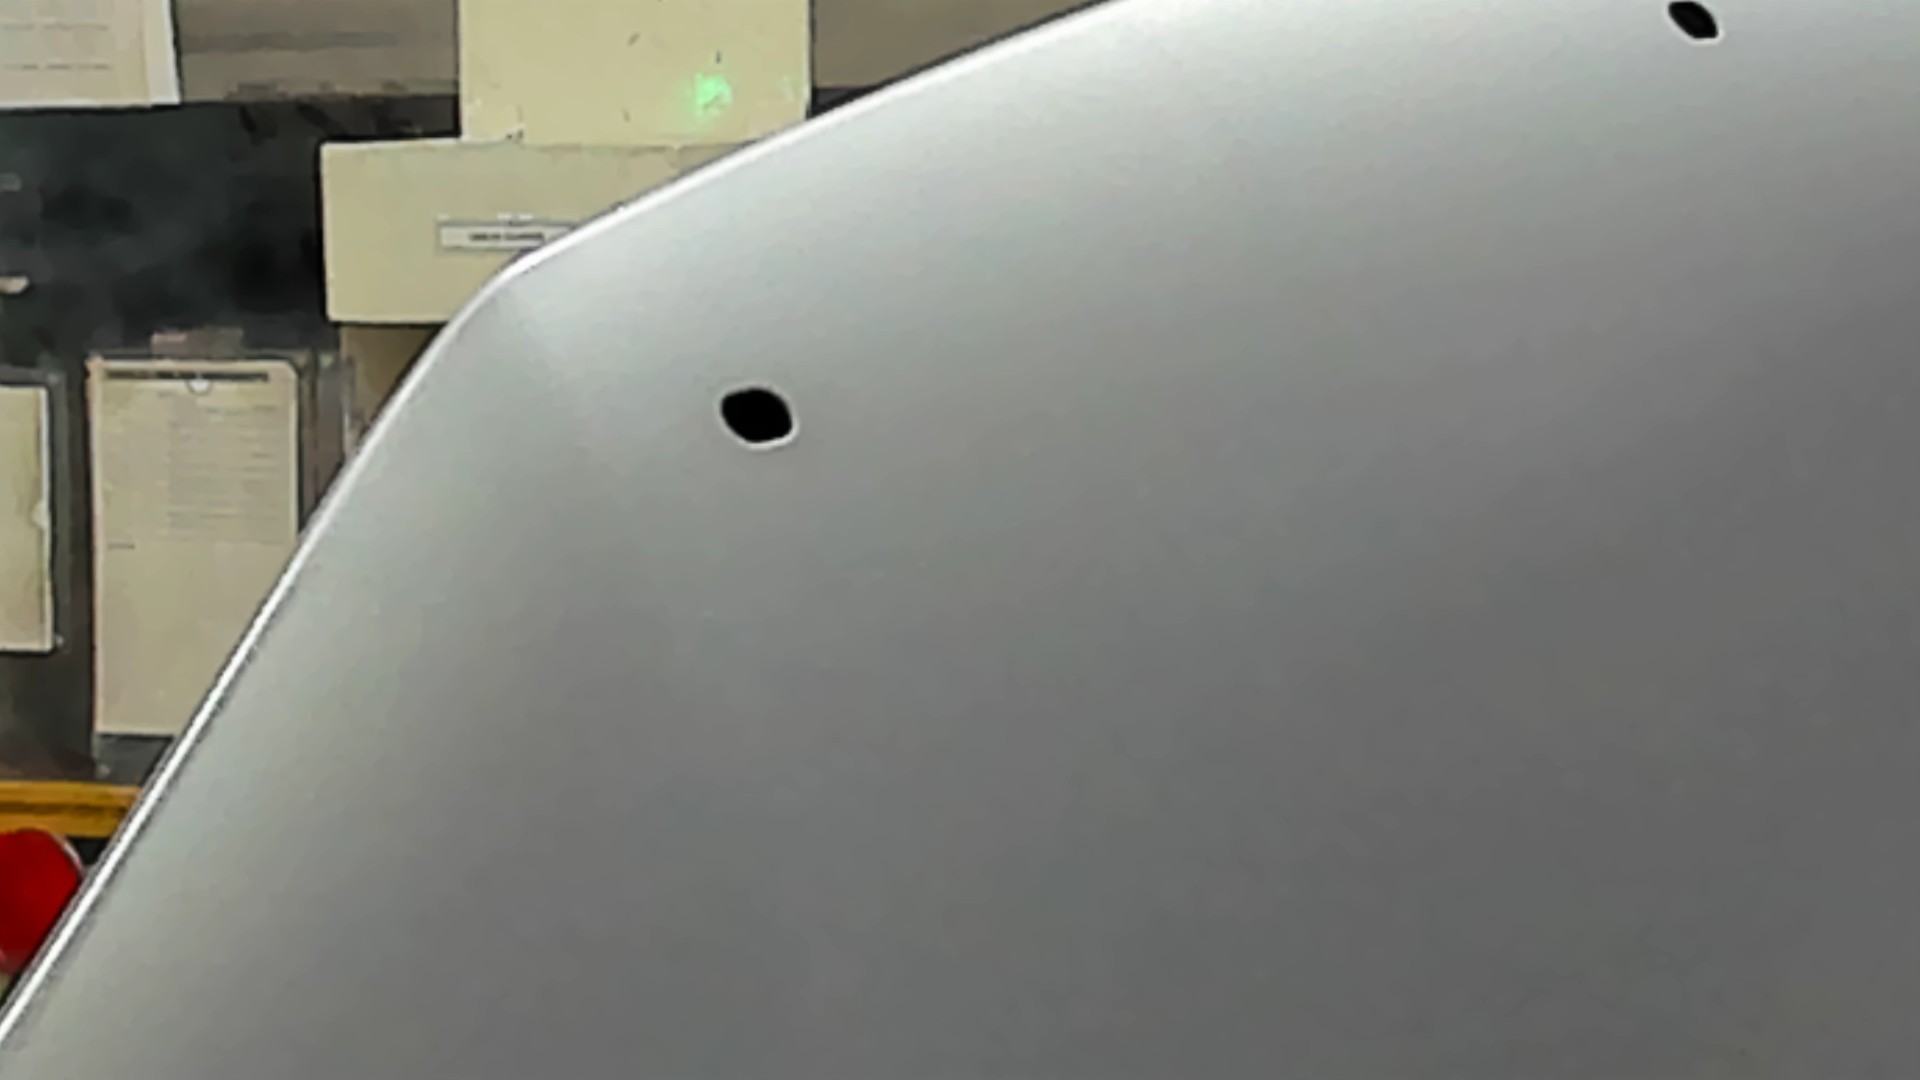chico: (698, 373, 828, 464), (1654, 1, 1737, 50)
